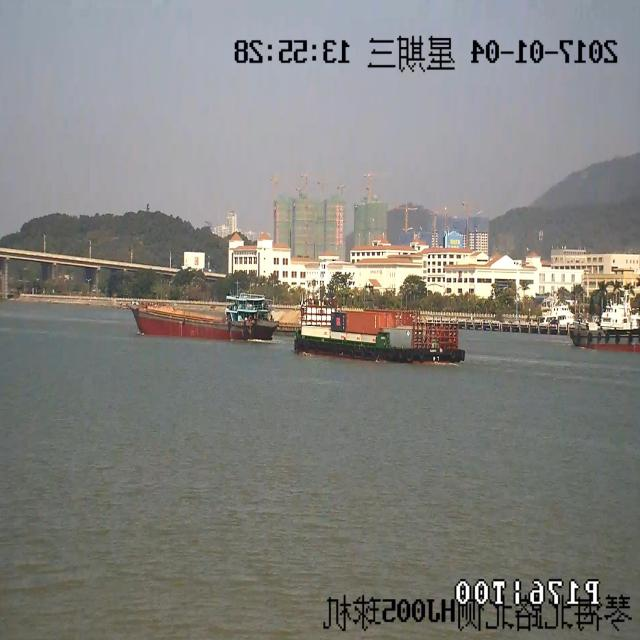cargoship: (298, 290, 466, 380), (131, 282, 286, 340), (569, 281, 640, 364)
